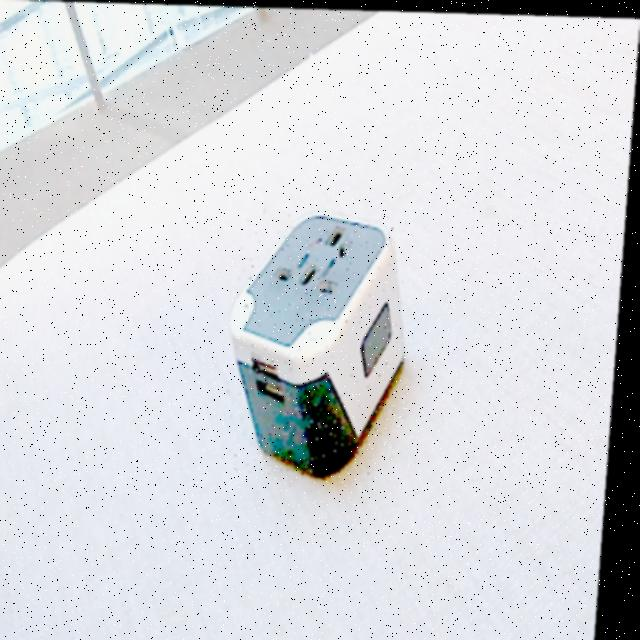adapter: (226, 205, 422, 478)
